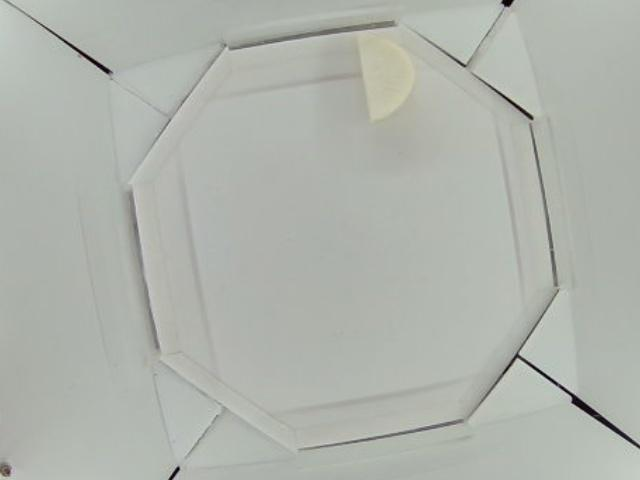Mooli: (356, 32, 412, 126)
